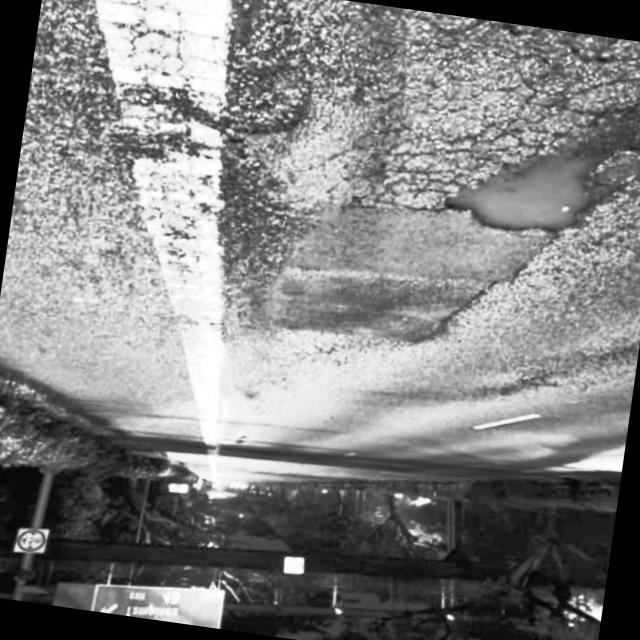Pothole: (413, 103, 640, 278)
